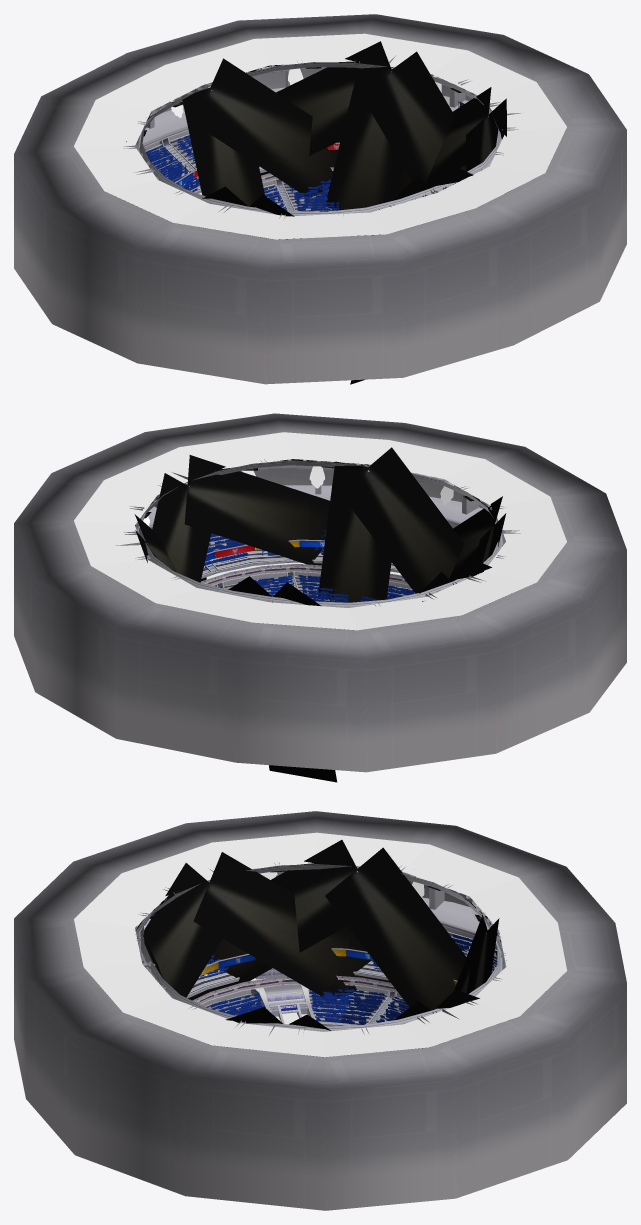
The model's file is WCS_DefaultCombatScene.fbx.
3 renders of one model, top to bottom at view 1: azimuth 30°, elevation 25°; view 2: azimuth 150°, elevation 25°; view 3: azimuth 270°, elevation 25°, orthographic. The views are drawn at different scales.
Visible parts, largest first — view 1: outer_arena_building_wall, outer_arena_building_rooftop, lightBeamGeo02 (×3), lightBeamGeo01 (×2), lightBeamGeo03 (×2), arena_ceiling_ring, wcs_crowd, outer_arena_foundation_beams, arena_bleachers, arena_ceiling_beams, arena_seating_frame; view 2: outer_arena_building_wall, outer_arena_building_rooftop, lightBeamGeo02 (×4), lightBeamGeo01 (×2), lightBeamGeo03 (×2), arena_ceiling_ring, wcs_crowd, outer_arena_foundation_beams, arena_bleachers, mid_arena_facade, arena_ceiling_beams, arena_team_flags (+3 smaller); view 3: outer_arena_building_wall, outer_arena_building_rooftop, lightBeamGeo02 (×3), lightBeamGeo03 (×2), wcs_crowd, arena_ceiling_ring, arena_bleachers, outer_arena_foundation_beams, lower_arena_vip_building, mid_arena_facade, arena_seating_frame, arena_team_flags (+2 smaller).
Boxes of the visible parts, left/top/right/bottom form: outer_arena_building_wall: left=14, top=14, right=626, bottom=384; outer_arena_building_rooftop: left=74, top=33, right=566, bottom=239; lightBeamGeo02 (×3): left=194, top=51, right=506, bottom=196; lightBeamGeo01 (×2): left=181, top=62, right=403, bottom=210; lightBeamGeo03 (×2): left=260, top=41, right=491, bottom=195; arena_ceiling_ring: left=136, top=62, right=501, bottom=215; wcs_crowd: left=146, top=135, right=397, bottom=211; outer_arena_foundation_beams: left=142, top=64, right=489, bottom=147; arena_bleachers: left=147, top=136, right=336, bottom=211; arena_ceiling_beams: left=107, top=55, right=562, bottom=239; arena_seating_frame: left=144, top=130, right=295, bottom=211; outer_arena_building_wall: left=14, top=413, right=626, bottom=772; outer_arena_building_rooftop: left=74, top=432, right=566, bottom=630; lightBeamGeo02 (×4): left=134, top=447, right=506, bottom=593; lightBeamGeo01 (×2): left=238, top=461, right=391, bottom=782; lightBeamGeo03 (×2): left=152, top=473, right=502, bottom=582; arena_ceiling_ring: left=135, top=460, right=504, bottom=607; wcs_crowd: left=144, top=530, right=414, bottom=602; outer_arena_foundation_beams: left=148, top=461, right=495, bottom=528; arena_bleachers: left=143, top=536, right=414, bottom=601; mid_arena_facade: left=200, top=564, right=408, bottom=585; arena_ceiling_beams: left=115, top=459, right=520, bottom=630; arena_team_flags: left=205, top=539, right=324, bottom=561; outer_arena_building_wall: left=14, top=811, right=626, bottom=1210; outer_arena_building_rooftop: left=74, top=832, right=567, bottom=1057; lightBeamGeo02 (×3): left=193, top=847, right=499, bottom=1010; lightBeamGeo03 (×2): left=144, top=840, right=357, bottom=1000; wcs_crowd: left=200, top=934, right=497, bottom=1024; arena_ceiling_ring: left=135, top=864, right=506, bottom=1031; arena_bleachers: left=189, top=934, right=497, bottom=1025; outer_arena_foundation_beams: left=137, top=868, right=499, bottom=946; lower_arena_vip_building: left=251, top=983, right=315, bottom=1024; mid_arena_facade: left=192, top=975, right=397, bottom=1004; arena_seating_frame: left=186, top=927, right=497, bottom=1026; arena_team_flags: left=200, top=948, right=457, bottom=985.
Size of the model in its own units: 384 by 161 by 357.
